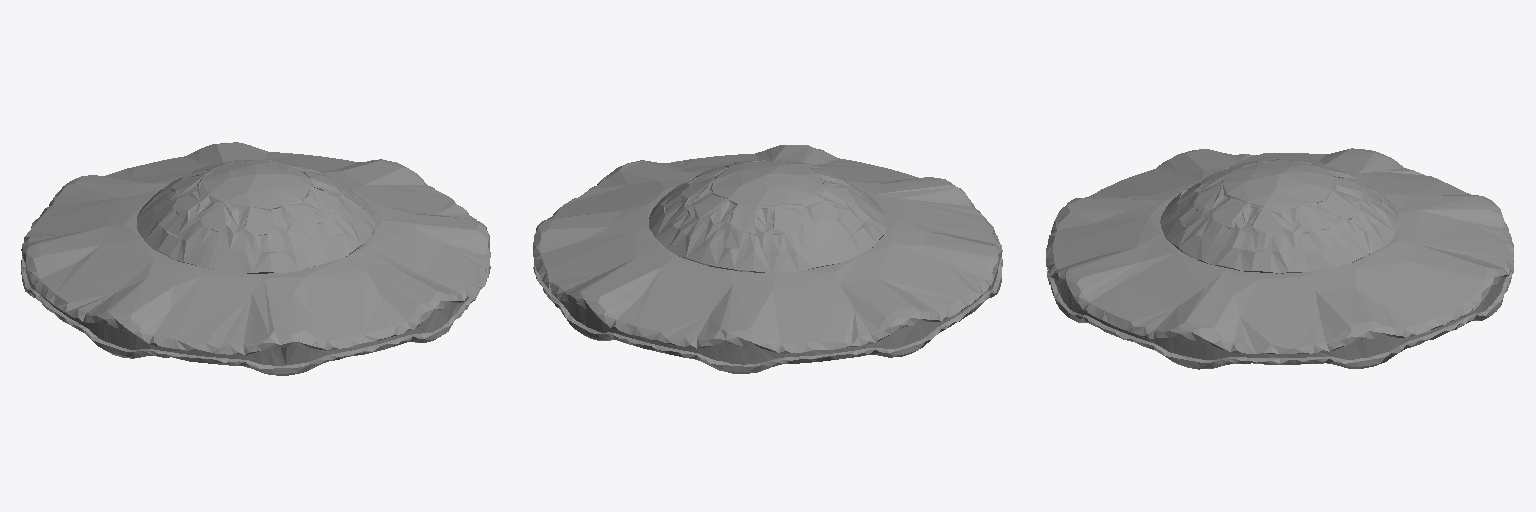
Rendered from frame_069.obj.
3 renders of one model, left to right at view 1: azimuth 30°, elevation 25°; view 2: azimuth 150°, elevation 25°; view 3: azimuth 270°, elevation 25°, orthographic.
Visible parts, largest first — view 1: 13884_UFO_Saucer_v1_l2; view 2: 13884_UFO_Saucer_v1_l2; view 3: 13884_UFO_Saucer_v1_l2.
Part boxes in pixels (left/top/right/bottom): 13884_UFO_Saucer_v1_l2: left=21, top=142, right=490, bottom=375; 13884_UFO_Saucer_v1_l2: left=533, top=145, right=1002, bottom=373; 13884_UFO_Saucer_v1_l2: left=1046, top=148, right=1513, bottom=369.
Bounding box in the file's own units: 12.69 × 4.88 × 12.7.